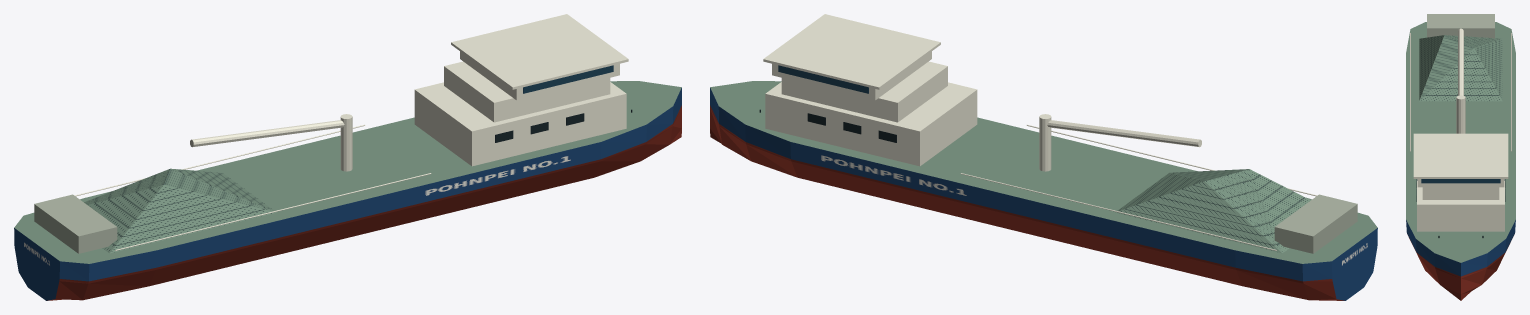
Rendered from ship.dae.
3 views of the same model, side by side, from view 1: azimuth 30°, elevation 25°; view 2: azimuth 150°, elevation 25°; view 3: azimuth 270°, elevation 25° (orthographic). The views are drawn at different scales.
Visible parts, largest first — view 1: Ship; view 2: Ship; view 3: Ship.
Part boxes in pixels (<box>): Ship: <box>14,14,681,300</box>; Ship: <box>710,14,1377,300</box>; Ship: <box>1406,14,1515,300</box>.
Size of the model in its own units: 61.75 by 11.9 by 11.06.
1 material, 1 textured.
